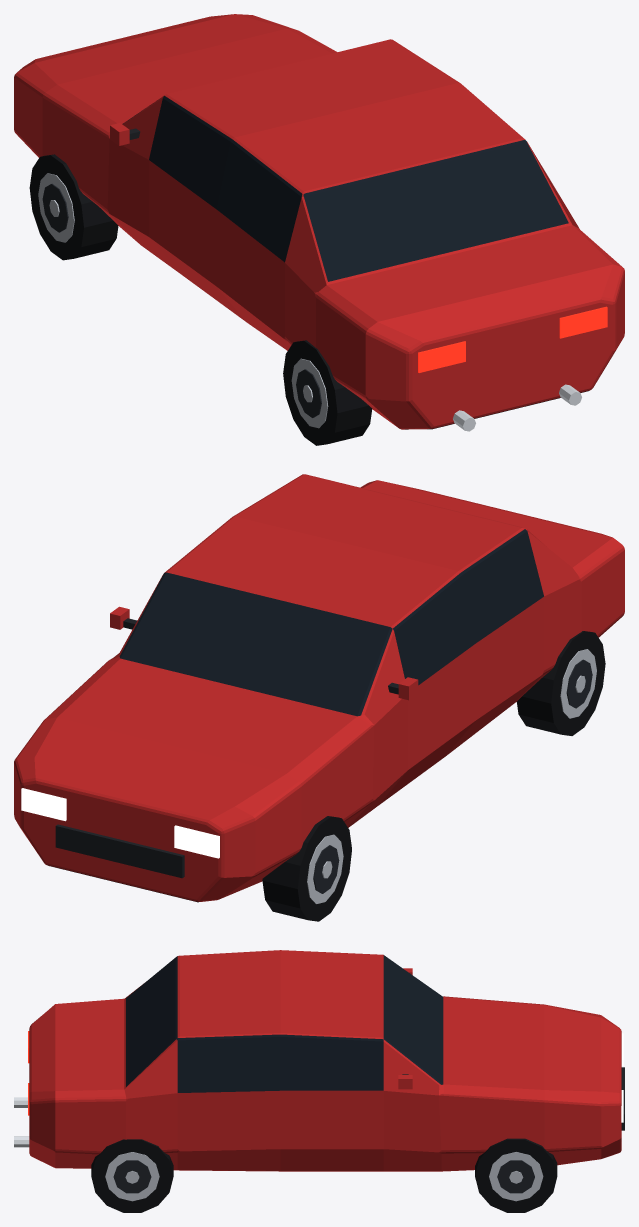
File: traffic_sedan.glb
The picture shows the model from 3 angles, top to bottom: view 1: azimuth 30°, elevation 25°; view 2: azimuth 150°, elevation 25°; view 3: azimuth 270°, elevation 25°; orthographic projection. The views are drawn at different scales.
Visible parts, largest first — view 1: Body, Wheel_FL, Wheel_RL; view 2: Body, Wheel_FL, Wheel_RL; view 3: Body, Wheel_FR, Wheel_RR.
Part boxes in pixels (x1,y1,x2,y2): Body: (14,14,624,431); Wheel_FL: (29,154,118,260); Wheel_RL: (283,340,372,445); Body: (14,474,624,902); Wheel_FL: (262,816,351,921); Wheel_RL: (517,631,605,735); Body: (14,950,624,1171); Wheel_FR: (475,1138,557,1212); Wheel_RR: (91,1139,173,1212).
Bounding box in the file's own units: 2.03 × 1.47 × 4.74.
